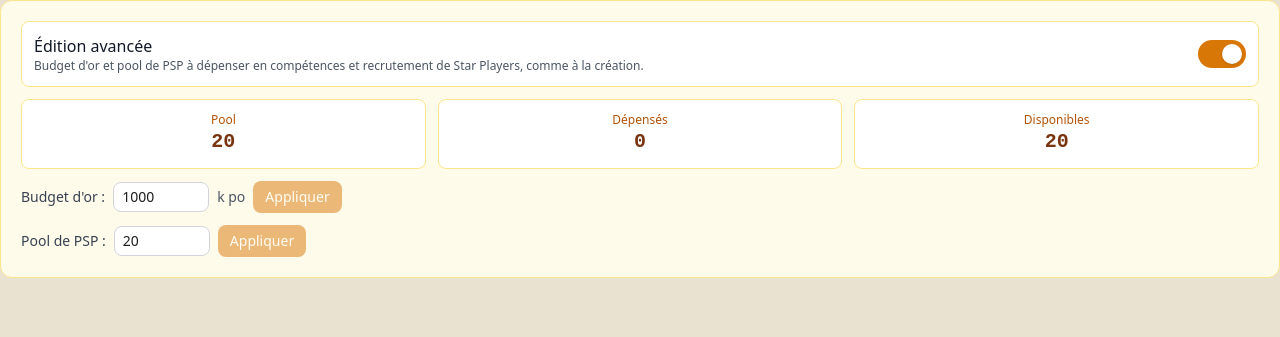
Test: PspPoolPanel — valeurs imposées par le règlement › affiche l'erreur serveur d'un budget sous l'or déjà engagé
The width and height of the screenshot is (1280, 337).
Replace the text in the number field with test id "initial-budget-input" with "900" at (161, 197), box [113,182,209,212]
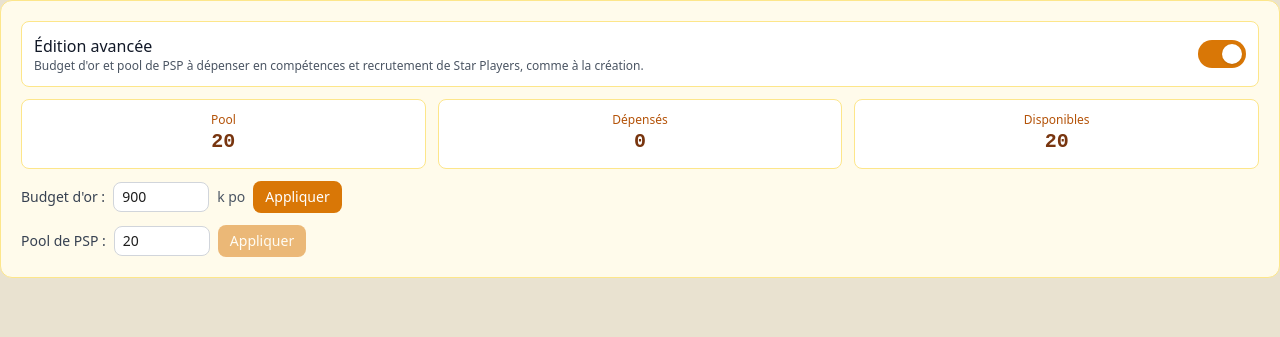
Click the button with test id "initial-budget-save" at (297, 197), box [253,181,342,213]
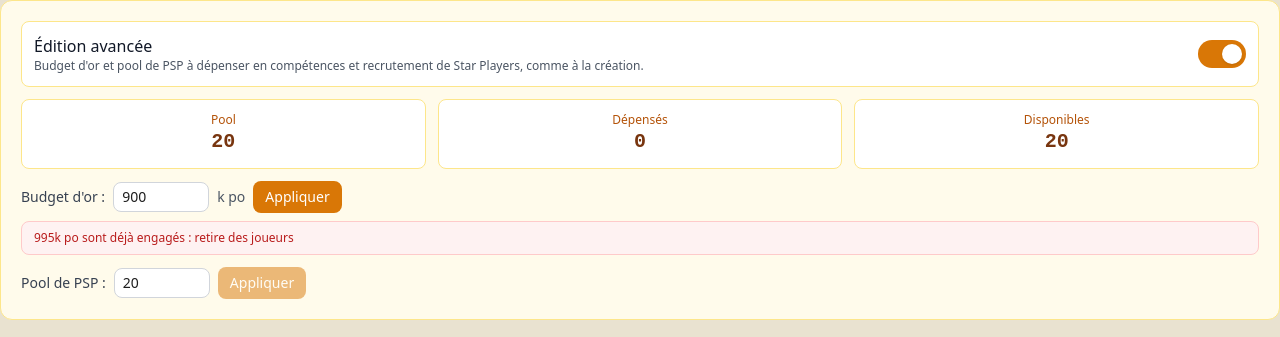
Check: the text with test id "initial-budget-error" shows "déjà engagés", box [34,229,294,246]
